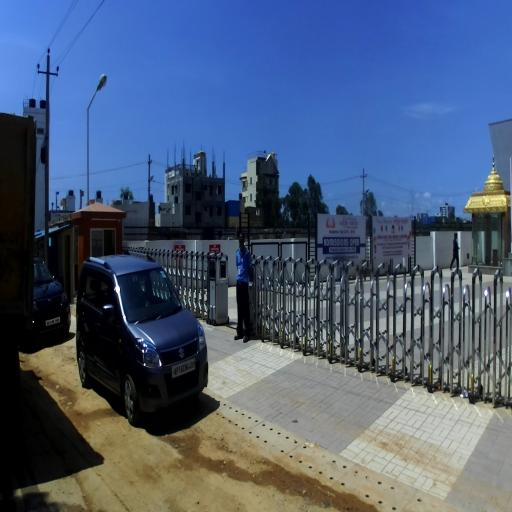street_light_0: (87, 74, 107, 110)
